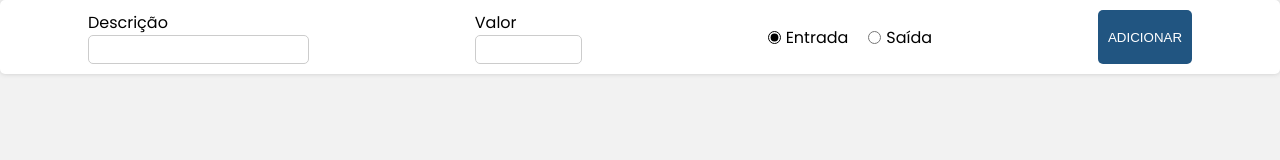
Scenario: armazena os valores corretamente
Expected: the number field with test id "valor" is not empty, [475,35,582,64]
Expected: the radio button with test id "entrada" is checked, [768,30,781,44]
Type "Exemplo de transação" into the field with test id "descricao" at (198,50), box [88,35,309,64]
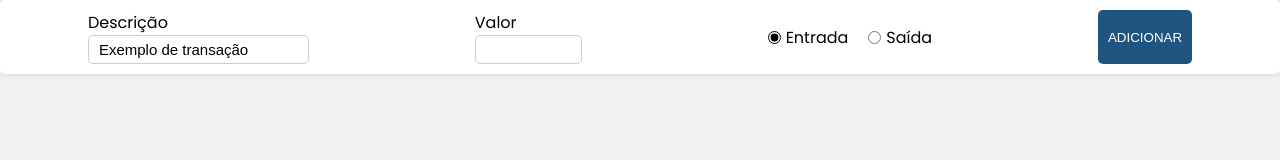
Type "50" into the number field with test id "valor" at (528,50), box [475,35,582,64]
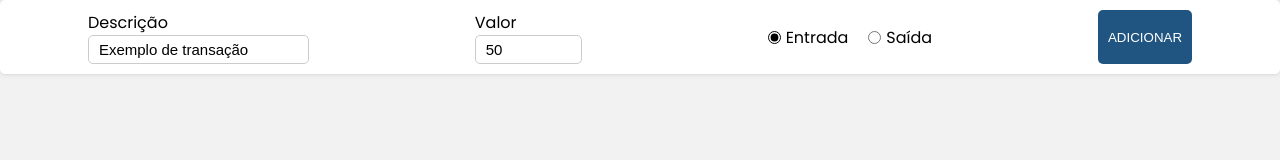
Click the radio button with test id "saida" at (875,37), box [868,30,881,44]
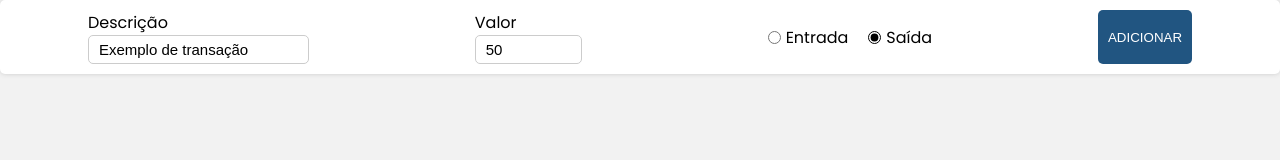
Expected: the radio button with test id "saida" is checked, [868,30,881,44]
Expected: the radio button with test id "entrada" is not checked, [768,30,781,44]
Click the button "ADICIONAR" at (1145,37), box [1098,10,1192,64]
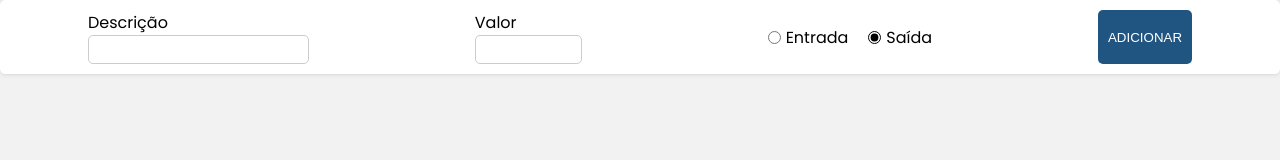
Expected: the radio button with test id "entrada" is not checked, [768,30,781,44]
Expected: the field with test id "descricao" is empty, [88,35,309,64]
Expected: the number field with test id "valor" is not empty, [475,35,582,64]
